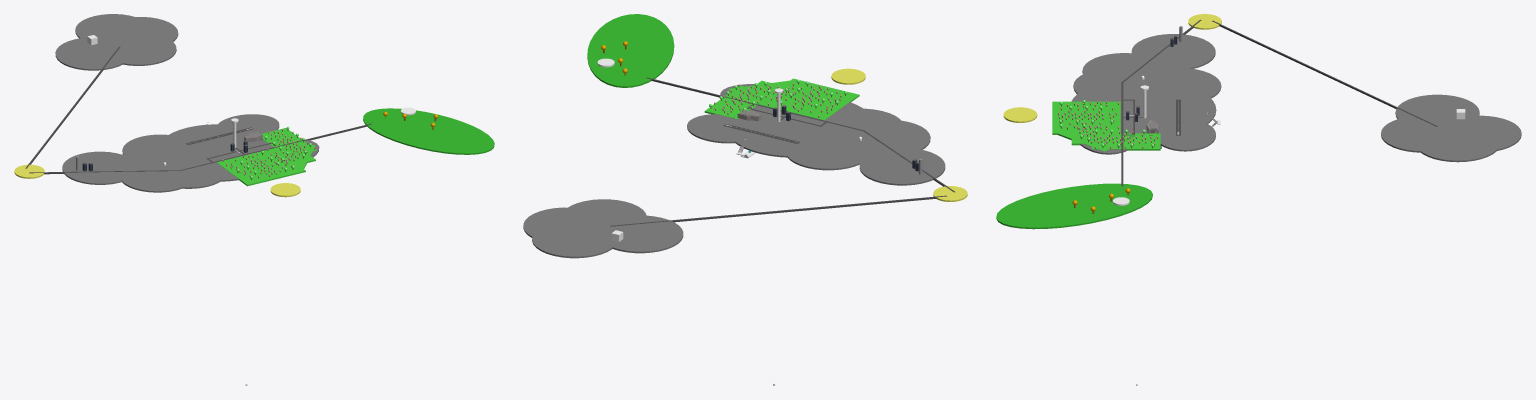
The picture shows the model from 3 angles, left to right: view 1: azimuth 30°, elevation 25°; view 2: azimuth 150°, elevation 25°; view 3: azimuth 270°, elevation 25°; orthographic projection. The views are drawn at different scales.
Visible parts, largest first — view 1: Cylinder_1_1, Cylinder_1_17_1, Cylinder_1_14_1, Cylinder_1_17, Box_1_1_1, Cylinder_1_16_2, Cylinder_1_16, Cylinder_1_15, ground2, Cylinder_1_14, Cylinder_1_14_3, ground (+4 smaller); view 2: Cylinder_1_1, Cylinder_1_17_1, Cylinder_1_14_1, Cylinder_1_17, Cylinder_1_16, Box_1_1_1, Cylinder_1_16_2, Cylinder_1_14_3, Cylinder_1_14, Cylinder_1_15, ground2, Cylinder_1_16_1 (+8 smaller); view 3: Cylinder_1_1, Cylinder_1_17, Cylinder_1_14_1, Cylinder_1_17_1, Box_1_1_1, Cylinder_1_16, ground2, Cylinder_1_14_3, Cylinder_1_16_2, Cylinder_1_16_1, Cylinder_1_14, Cylinder_1_15 (+6 smaller).
Boxes of the visible parts, x1,y1,x2,y2 form: Cylinder_1_1: (363, 108, 494, 154); Cylinder_1_17_1: (55, 37, 130, 70); Cylinder_1_14_1: (102, 17, 178, 48); Cylinder_1_17: (62, 151, 137, 184); Box_1_1_1: (216, 148, 305, 186); Cylinder_1_16_2: (122, 134, 197, 166); Cylinder_1_16: (161, 124, 247, 156); Cylinder_1_15: (151, 156, 226, 188); ground2: (101, 33, 176, 65); Cylinder_1_14: (119, 159, 193, 192); Cylinder_1_14_3: (75, 14, 150, 45); ground: (188, 139, 319, 181); Cylinder_1_1: (587, 14, 674, 87); Cylinder_1_17_1: (598, 215, 683, 253); Cylinder_1_14_1: (523, 207, 608, 243); Cylinder_1_17: (859, 147, 945, 185); Cylinder_1_16: (730, 119, 829, 157); Box_1_1_1: (758, 78, 859, 120); Cylinder_1_16_2: (786, 132, 871, 170); Cylinder_1_14_3: (532, 220, 616, 258); Cylinder_1_14: (845, 119, 930, 155); Cylinder_1_15: (819, 108, 903, 144); ground2: (561, 199, 646, 235); Cylinder_1_16_1: (687, 114, 757, 143); Cylinder_1_1: (996, 183, 1152, 229); Cylinder_1_17: (1131, 34, 1215, 69); Cylinder_1_14_1: (1416, 125, 1499, 162); Cylinder_1_17_1: (1395, 94, 1479, 130); Box_1_1_1: (1052, 101, 1120, 134); Cylinder_1_16: (1138, 88, 1216, 130); ground2: (1381, 115, 1463, 152); Cylinder_1_14_3: (1438, 115, 1521, 150); Cylinder_1_16_2: (1137, 68, 1221, 103); Cylinder_1_16_1: (1155, 119, 1215, 151); Cylinder_1_14: (1082, 53, 1166, 85); Cylinder_1_15: (1073, 68, 1157, 102).
Size of the model in its own units: 300 by 193 by 312.
Materials: 52 (1 with a texture image).
